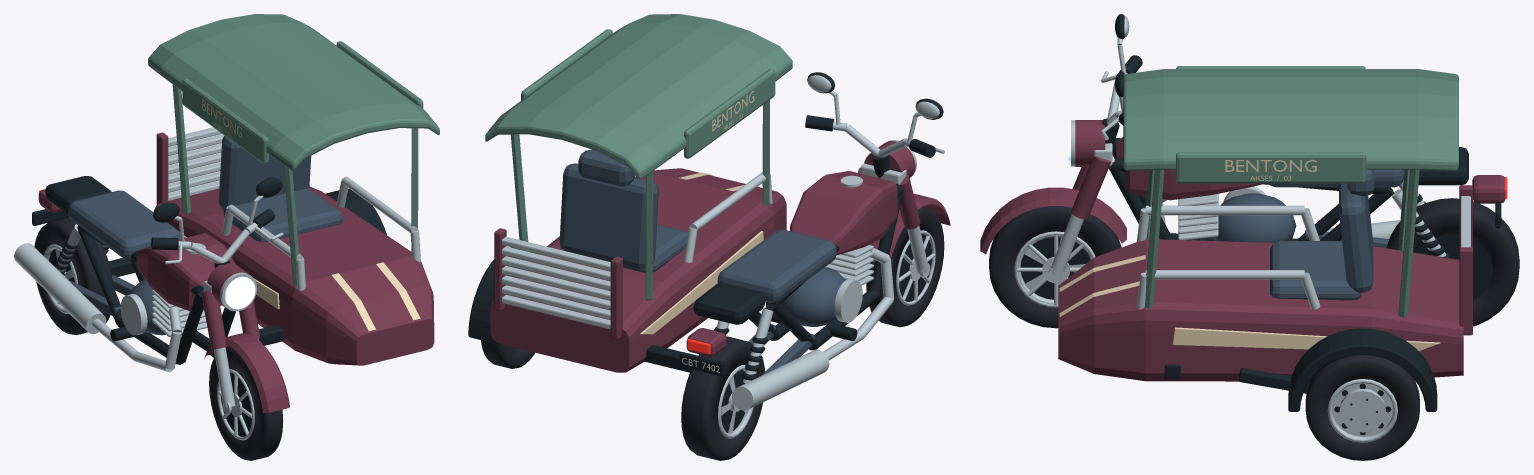
The picture shows the model from 3 angles, left to right: view 1: azimuth 30°, elevation 25°; view 2: azimuth 150°, elevation 25°; view 3: azimuth 270°, elevation 25°; orthographic projection. The views are drawn at different scales.
Parts seen in each view (by area): view 1: Bentong Access Sidecar; view 2: Bentong Access Sidecar; view 3: Bentong Access Sidecar.
Part boxes in pixels (x1=…): Bentong Access Sidecar: x1=14, y1=14, x2=439, y2=460; Bentong Access Sidecar: x1=468, y1=14, x2=950, y2=460; Bentong Access Sidecar: x1=980, y1=14, x2=1519, y2=460.
Size of the model in its own units: 1.86 by 1.55 by 2.41.
